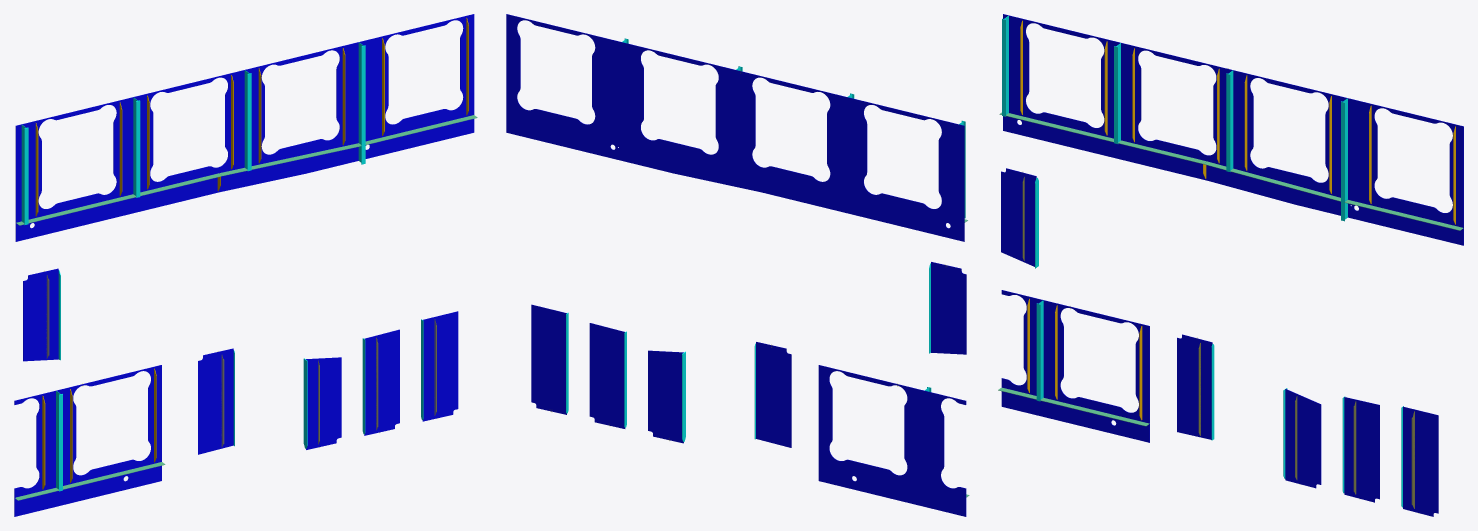
3 views of the same model, side by side, from view 1: azimuth 30°, elevation 25°; view 2: azimuth 150°, elevation 25°; view 3: azimuth 330°, elevation 25° (orthographic).
Visible parts, largest first — view 1: 2089103932592, 2089127062448, 2089127062304, 2089127062048, 2089127062176, 2089127061920, 2089127061600, 2089103932768, 2089127062512, 2089103932480, 2089103932784; view 2: 2089103932592, 2089127062448, 2089127062304, 2089127062176, 2089127062048, 2089127061920, 2089127061600; view 3: 2089103932592, 2089127062448, 2089127062304, 2089127062176, 2089127062048, 2089127061600, 2089127061920, 2089103932768, 2089127062512, 2089103932784.
Part boxes in pixels (left/top/right/bottom): 2089103932592: left=15, top=14, right=474, bottom=241; 2089127062448: left=14, top=365, right=161, bottom=516; 2089127062304: left=422, top=311, right=458, bottom=421; 2089127062048: left=198, top=348, right=233, bottom=454; 2089127062176: left=364, top=329, right=399, bottom=435; 2089127061920: left=23, top=268, right=58, bottom=361; 2089127061600: left=306, top=357, right=341, bottom=449; 2089103932768: left=16, top=173, right=221, bottom=225; 2089127062512: left=15, top=462, right=165, bottom=500; 2089103932480: left=361, top=45, right=365, bottom=164; 2089103932784: left=219, top=143, right=360, bottom=175; 2089103932592: left=506, top=14, right=964, bottom=241; 2089127062448: left=818, top=365, right=966, bottom=516; 2089127062304: left=531, top=304, right=566, bottom=414; 2089127062176: left=589, top=323, right=625, bottom=428; 2089127062048: left=756, top=342, right=791, bottom=447; 2089127061920: left=931, top=262, right=966, bottom=354; 2089127061600: left=648, top=350, right=683, bottom=443; 2089103932592: left=1003, top=14, right=1463, bottom=245; 2089127062448: left=1001, top=290, right=1149, bottom=442; 2089127062304: left=1403, top=406, right=1438, bottom=516; 2089127062176: left=1344, top=397, right=1379, bottom=502; 2089127062048: left=1177, top=334, right=1212, bottom=439; 2089127061600: left=1285, top=389, right=1321, bottom=488; 2089127061920: left=1001, top=168, right=1036, bottom=266; 2089103932768: left=999, top=112, right=1206, bottom=164; 2089127062512: left=998, top=387, right=1149, bottom=426; 2089103932784: left=1204, top=161, right=1340, bottom=201.
Size of the model in its own units: 11535 by 9434 by 307.
